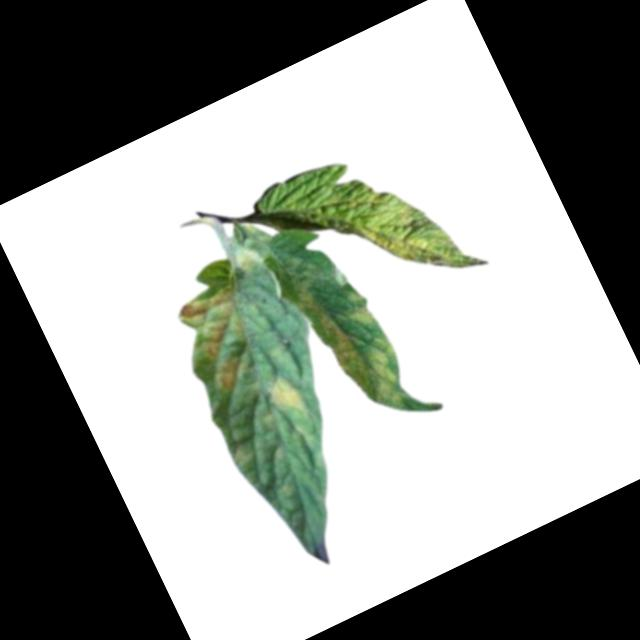Leaf_Mold: (330, 151, 489, 313), (292, 263, 420, 433), (168, 282, 276, 405), (260, 370, 311, 424)
